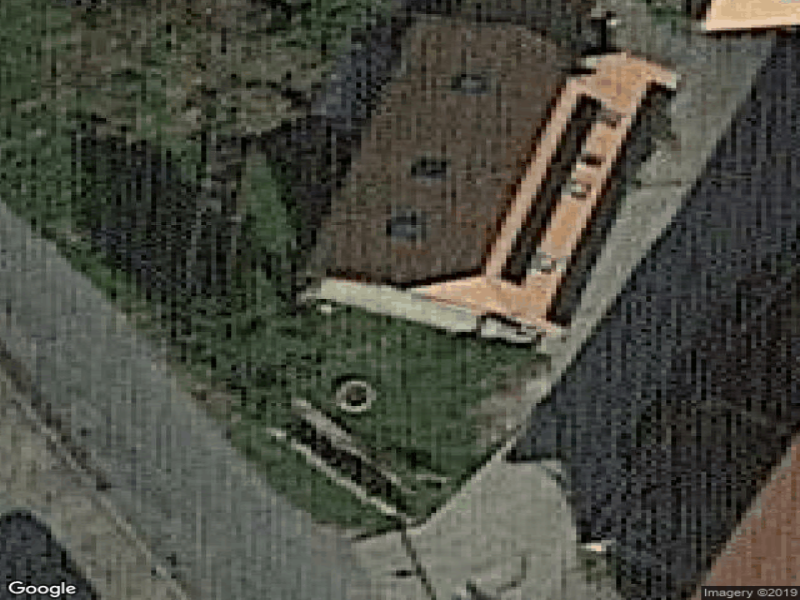pv: (503, 93, 601, 290)
